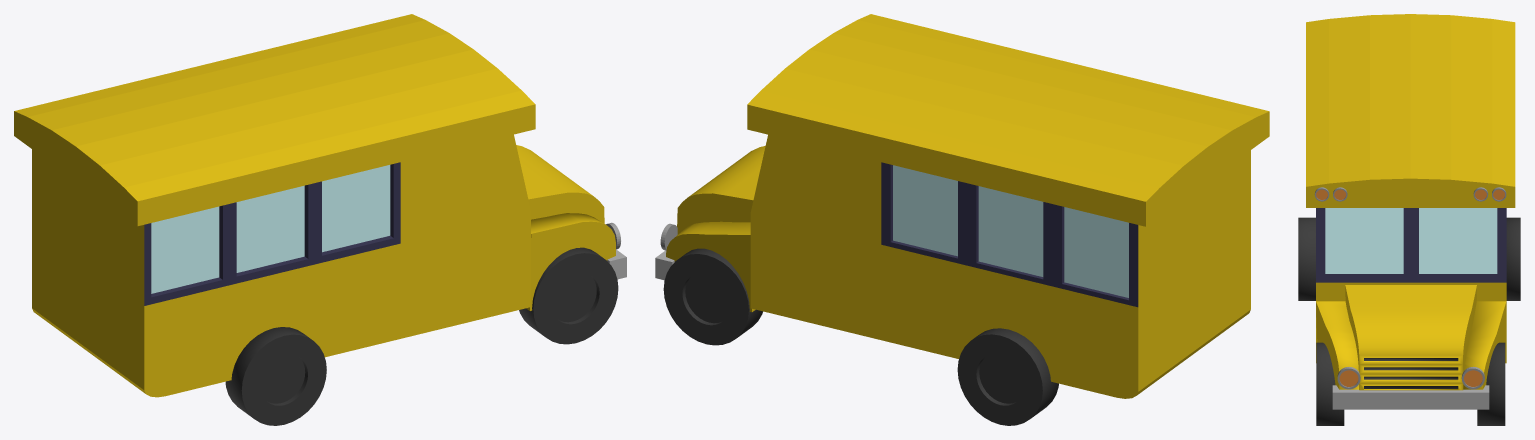
The model's file is Bus.fbx.
3 views of the same model, side by side, from view 1: azimuth 30°, elevation 25°; view 2: azimuth 150°, elevation 25°; view 3: azimuth 270°, elevation 25° (orthographic). The views are drawn at different scales.
Parts seen in each view (by area): view 1: Bus_Middle, Bus_Up, Bus_Wheel; view 2: Bus_Middle, Bus_Up, Bus_Wheel; view 3: Bus_Up, Bus_Middle, Bus_Wheel.
Boxes of the visible parts, x1,y1,x2,y2 form: Bus_Middle: [32, 134, 626, 397]; Bus_Up: [14, 14, 535, 226]; Bus_Wheel: [225, 247, 618, 425]; Bus_Middle: [655, 134, 1250, 398]; Bus_Up: [747, 14, 1269, 226]; Bus_Wheel: [663, 248, 1058, 425]; Bus_Up: [1306, 14, 1515, 207]; Bus_Middle: [1316, 208, 1506, 409]; Bus_Wheel: [1298, 217, 1520, 425].
Size of the model in its own units: 1202 by 602 by 541.
